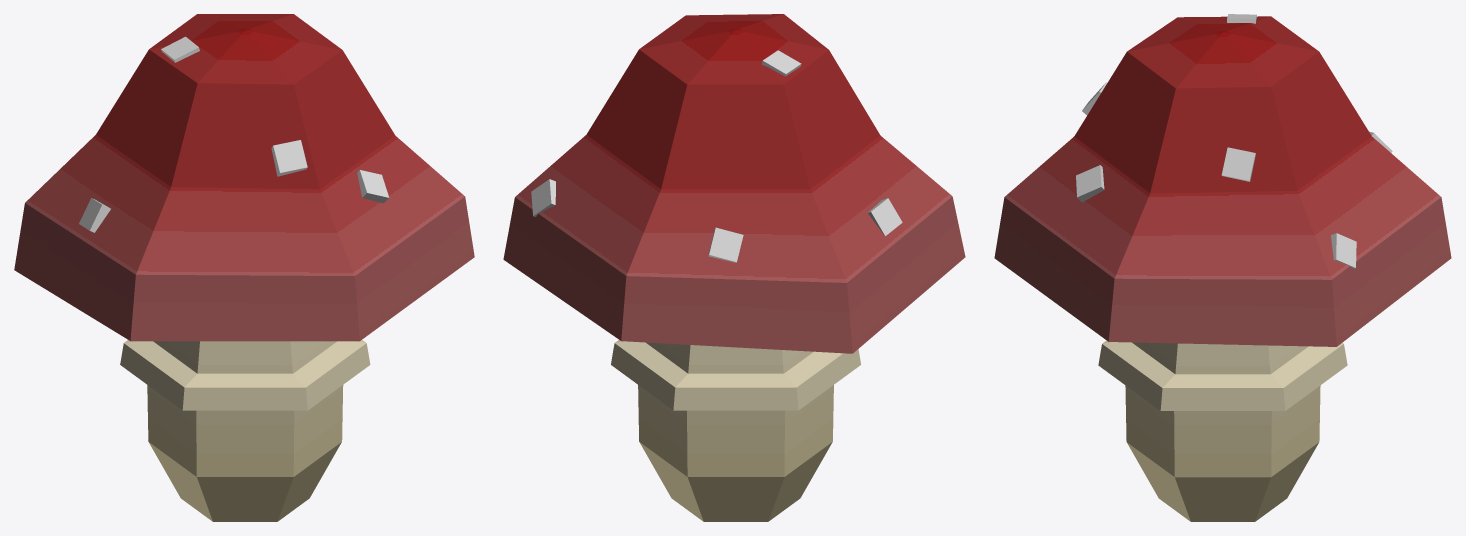
Rendered from Mushroom_002.fbx.
3 renders of one model, left to right at view 1: azimuth 30°, elevation 25°; view 2: azimuth 150°, elevation 25°; view 3: azimuth 270°, elevation 25°, orthographic.
Parts seen in each view (by area): view 1: Mushroom.002; view 2: Mushroom.002; view 3: Mushroom.002.
Boxes of the visible parts, x1,y1,x2,y2 form: Mushroom.002: (14,14,474,521); Mushroom.002: (503,14,965,521); Mushroom.002: (994,14,1451,521).
Bounding box in the file's own units: 0.5972 × 0.7649 × 0.6797.
